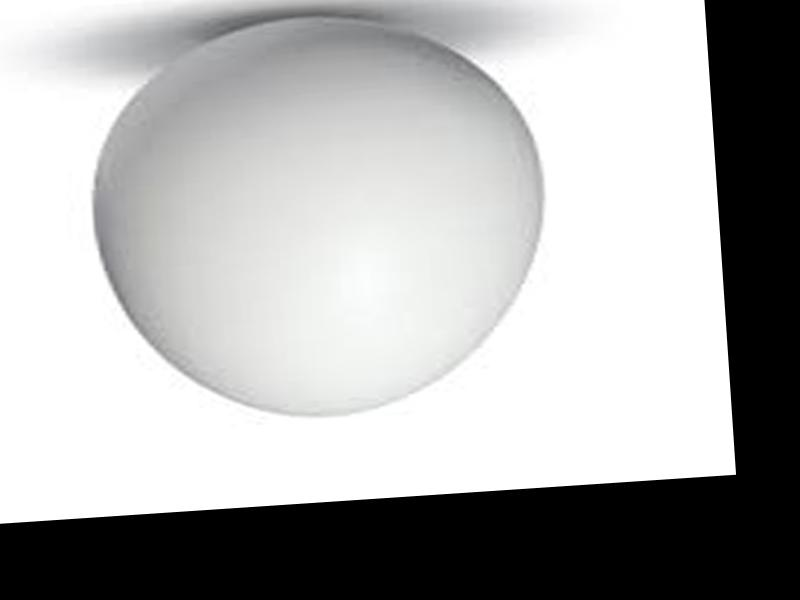Eggs: (88, 4, 555, 433)
